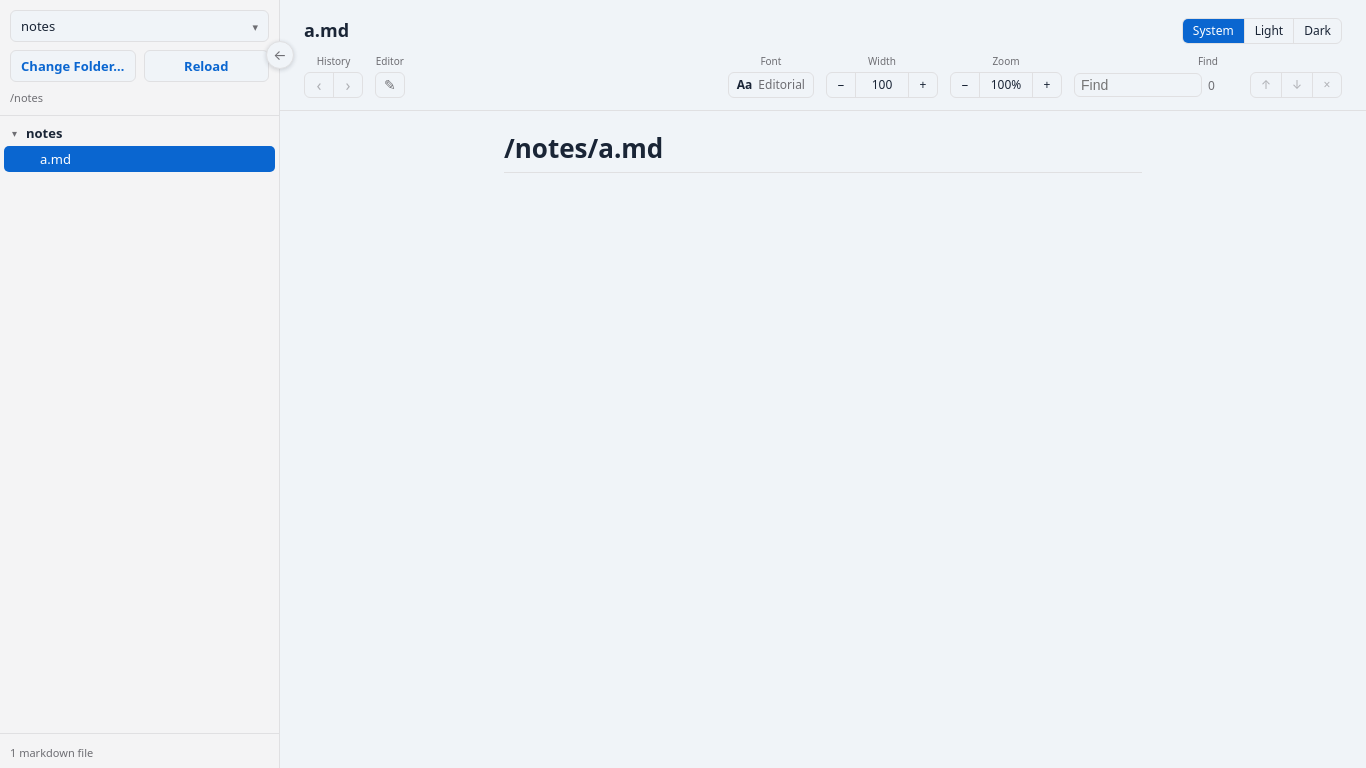
Test case: stays on the open folder when the chosen one cannot be opened
Click the button with aria-label "Recent folders": (140, 26) left=10, top=10, right=269, bottom=42
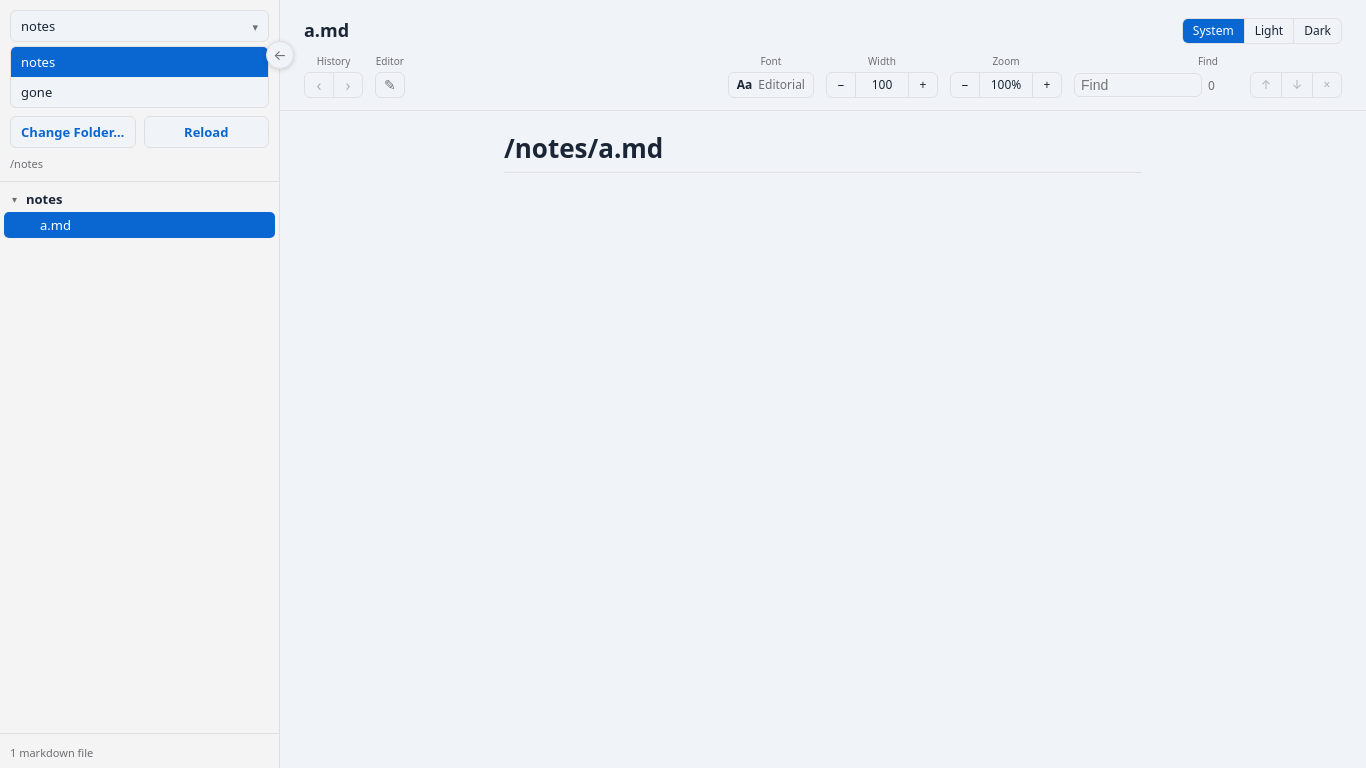
Click the menu item with aria-label "/gone": (140, 92) left=11, top=77, right=268, bottom=107
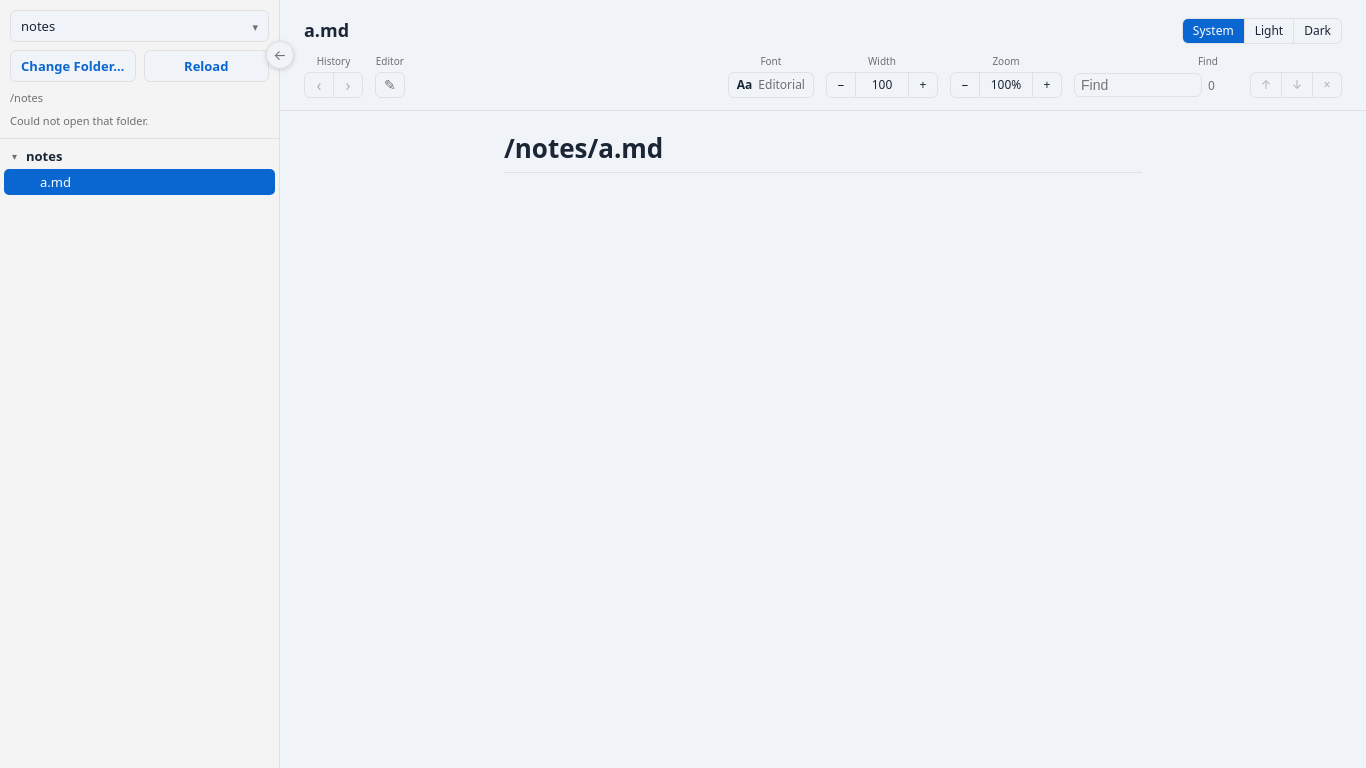
Expected: the list item "a.md" is shown, left=4, top=169, right=275, bottom=195
Expected: the text "Could not open that folder." is shown, left=10, top=113, right=148, bottom=128
